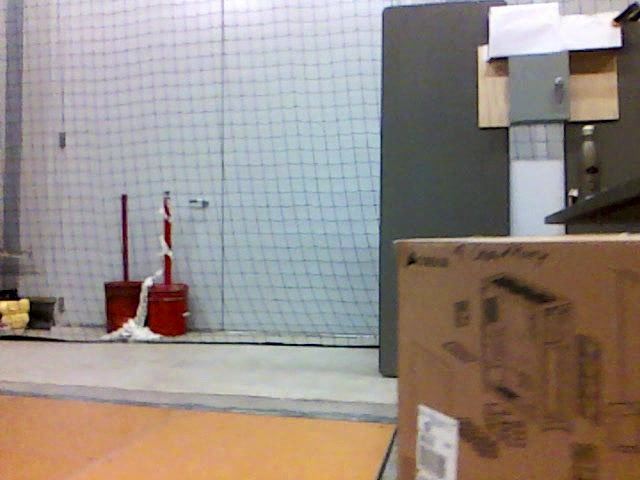box: (395, 236, 639, 480)
